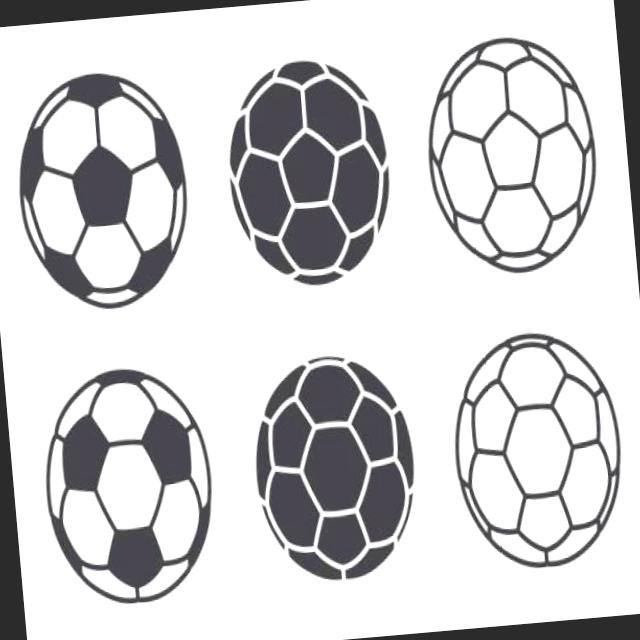ball: (218, 44, 404, 296)
